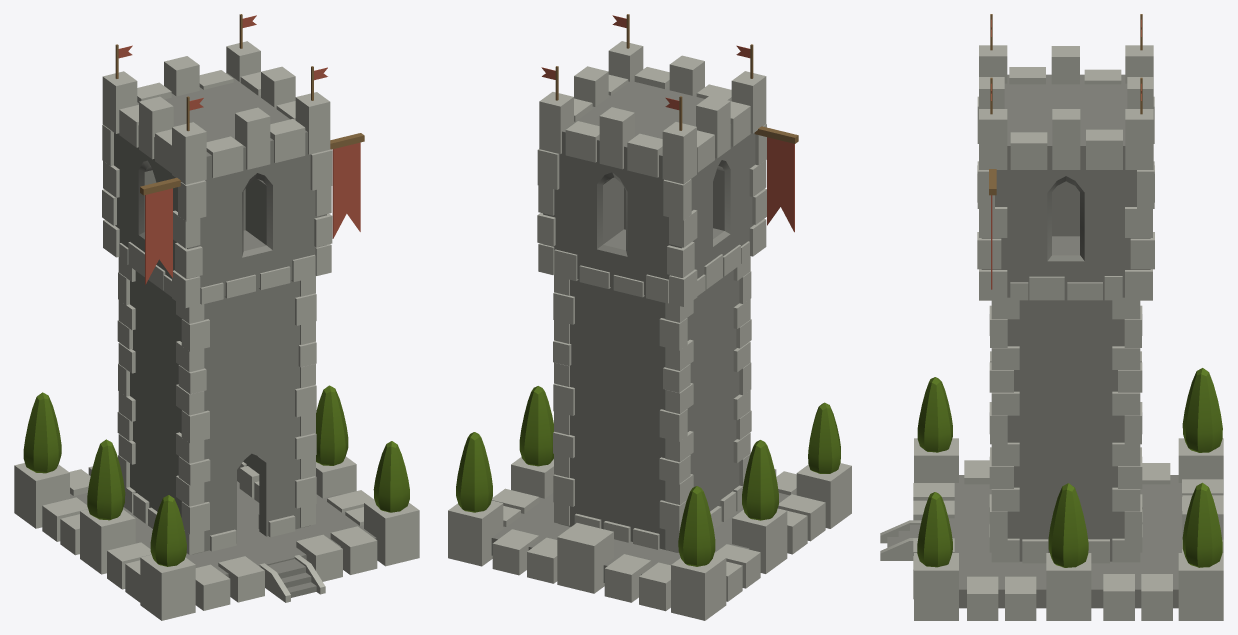
Rendered from WatchTower_SecondAge_Level3.glb.
The picture shows the model from 3 angles, left to right: view 1: azimuth 30°, elevation 25°; view 2: azimuth 150°, elevation 25°; view 3: azimuth 270°, elevation 25°; orthographic projection. The views are drawn at different scales.
Visible parts, largest first — view 1: WatchTower_SecondAge_Level3; view 2: WatchTower_SecondAge_Level3; view 3: WatchTower_SecondAge_Level3.
Part boxes in pixels (x1,y1,x2,y2): WatchTower_SecondAge_Level3: [14, 14, 419, 620]; WatchTower_SecondAge_Level3: [448, 14, 851, 620]; WatchTower_SecondAge_Level3: [880, 14, 1223, 620].
Size of the model in its own units: 0.8132 by 1.45 by 0.892.
